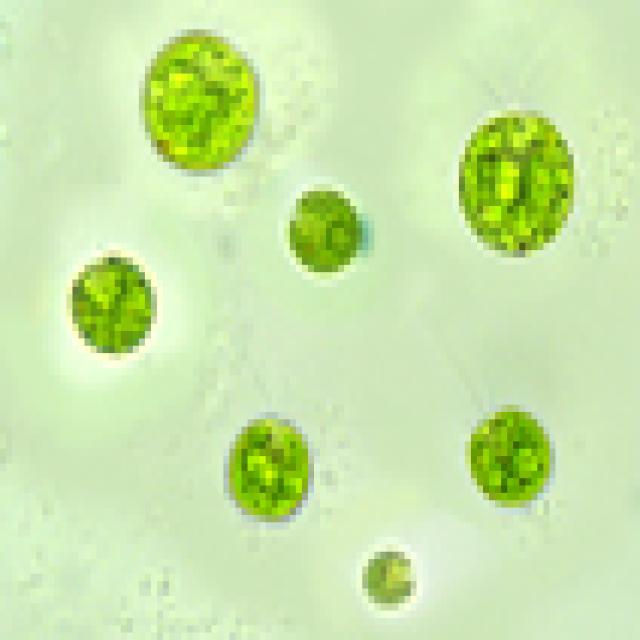Green Algae: (132, 22, 266, 177), (458, 118, 580, 265), (66, 250, 163, 353), (223, 405, 308, 522), (278, 184, 368, 279), (465, 405, 555, 500), (356, 544, 417, 610)
